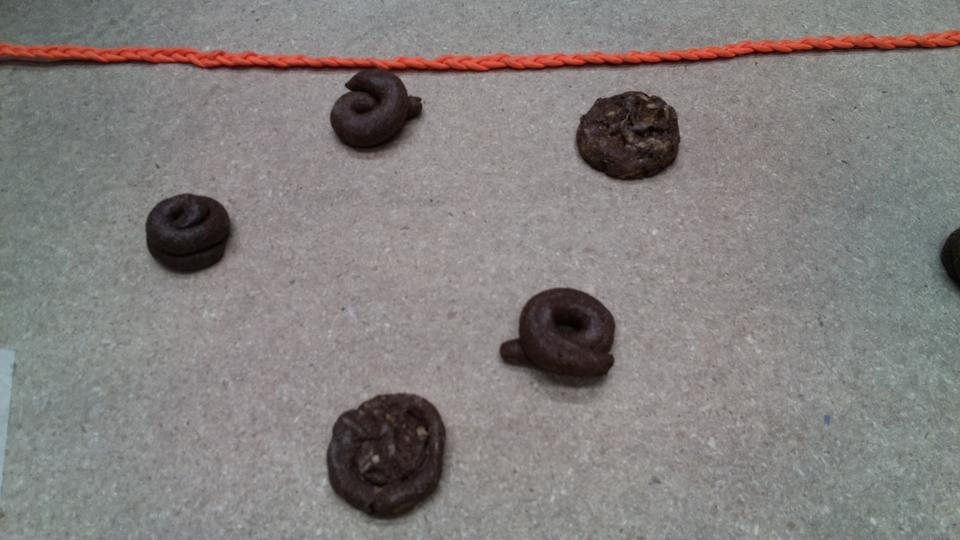poop: (325, 388, 453, 522), (498, 281, 623, 397), (569, 85, 693, 186), (326, 69, 438, 162), (140, 189, 240, 279)
rope: (2, 31, 646, 83), (634, 29, 960, 68)
